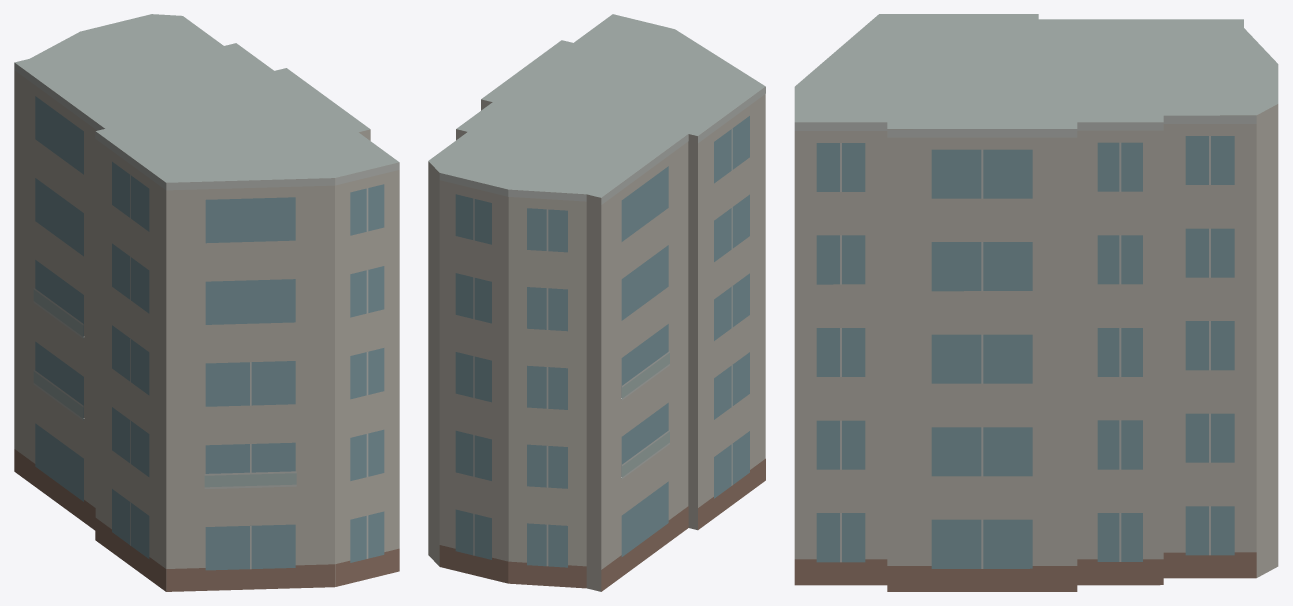
Rendered from survey-upis-32992982.glb.
3 renders of one model, left to right at view 1: azimuth 30°, elevation 25°; view 2: azimuth 150°, elevation 25°; view 3: azimuth 270°, elevation 25°, orthographic. The views are drawn at different scales.
Parts seen in each view (by area): view 1: survey-upis-32992982.tmp; view 2: survey-upis-32992982.tmp; view 3: survey-upis-32992982.tmp.
Part boxes in pixels (box(x1,y1,x2,y2)): survey-upis-32992982.tmp: box(14, 14, 399, 591); survey-upis-32992982.tmp: box(428, 14, 765, 591); survey-upis-32992982.tmp: box(794, 14, 1278, 591).
Bounding box in the file's own units: 7.05 × 13.2 × 12.53.
